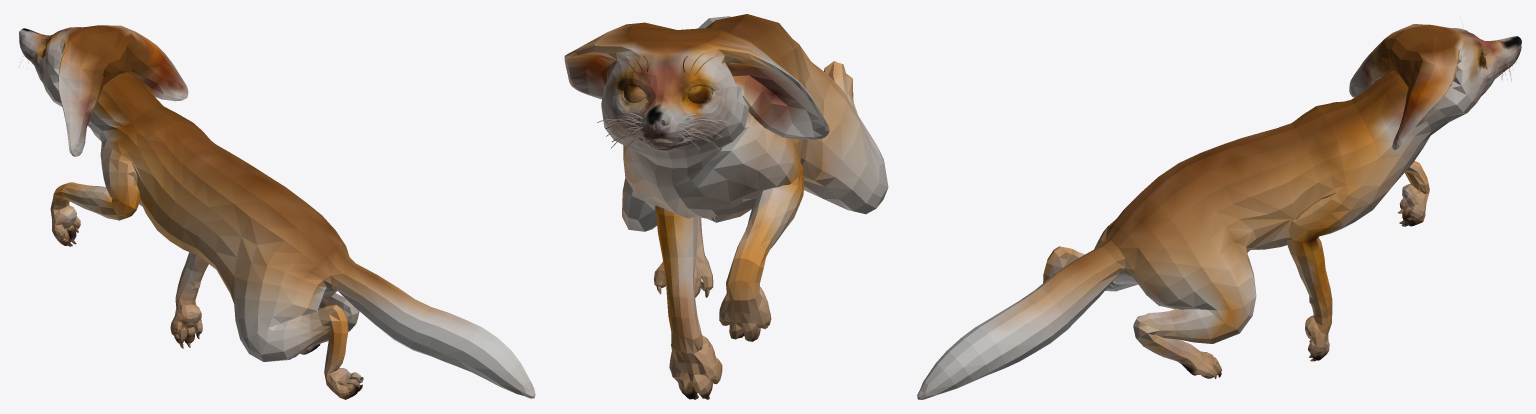
Rendered from fox.mesh.glb.
3 views of the same model, side by side, from view 1: azimuth 30°, elevation 25°; view 2: azimuth 150°, elevation 25°; view 3: azimuth 270°, elevation 25° (orthographic). The views are drawn at different scales.
Parts seen in each view (by area): view 1: root; view 2: root; view 3: root.
Boxes of the visible parts, x1,y1,x2,y2 form: root: [19, 25, 535, 399]; root: [564, 14, 888, 399]; root: [917, 24, 1521, 399].
Bounding box in the file's own units: 0.3894 × 0.3991 × 0.7077.
1 material, 1 textured.
